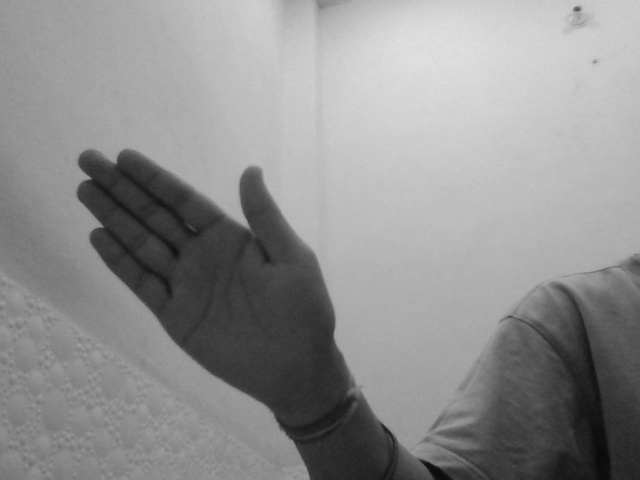Hello: (71, 145, 340, 426)
